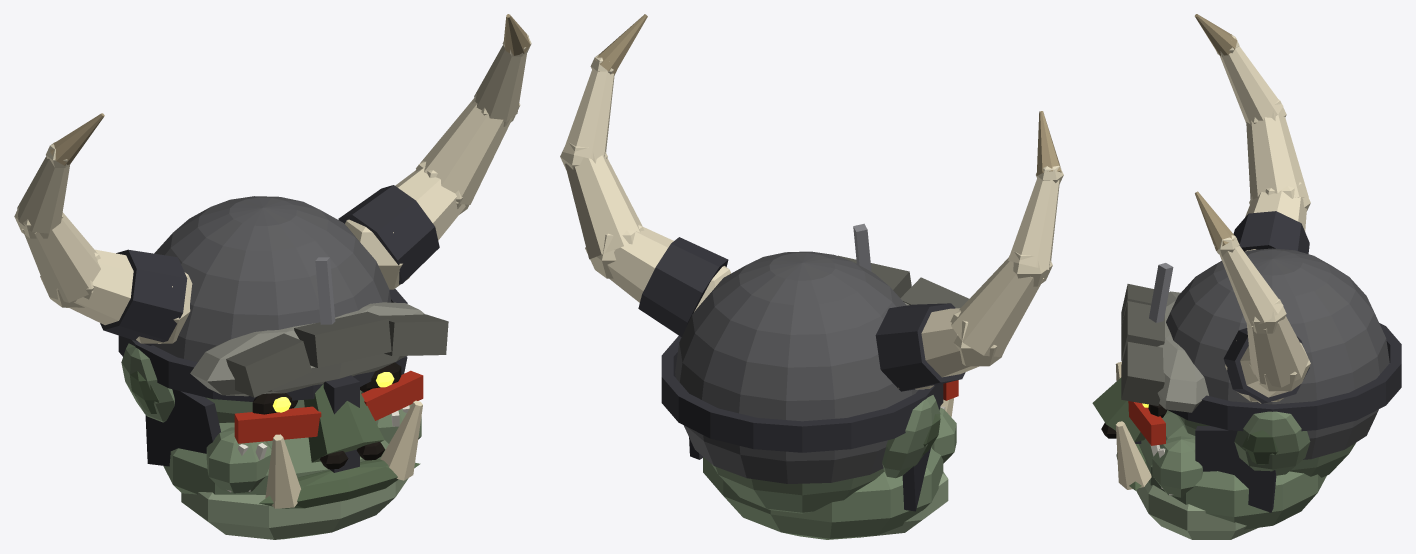
Rendered from stonebrow_warlord_head.glb.
3 renders of one model, left to right at view 1: azimuth 30°, elevation 25°; view 2: azimuth 150°, elevation 25°; view 3: azimuth 270°, elevation 25°, orthographic. The views are drawn at different scales.
Visible parts, largest first — view 1: stonebrow_warlord_head; view 2: stonebrow_warlord_head; view 3: stonebrow_warlord_head.
Boxes of the visible parts, bbox=[...] form: stonebrow_warlord_head: bbox=[14, 14, 531, 539]; stonebrow_warlord_head: bbox=[560, 14, 1063, 539]; stonebrow_warlord_head: bbox=[1092, 14, 1401, 539].
Size of the model in its own units: 1.35 by 1.21 by 0.813.
